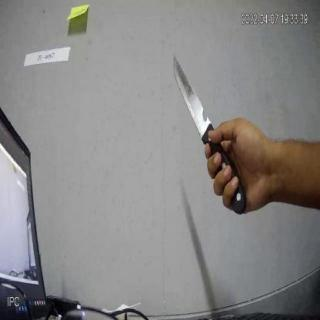knife: (166, 47, 247, 216)
